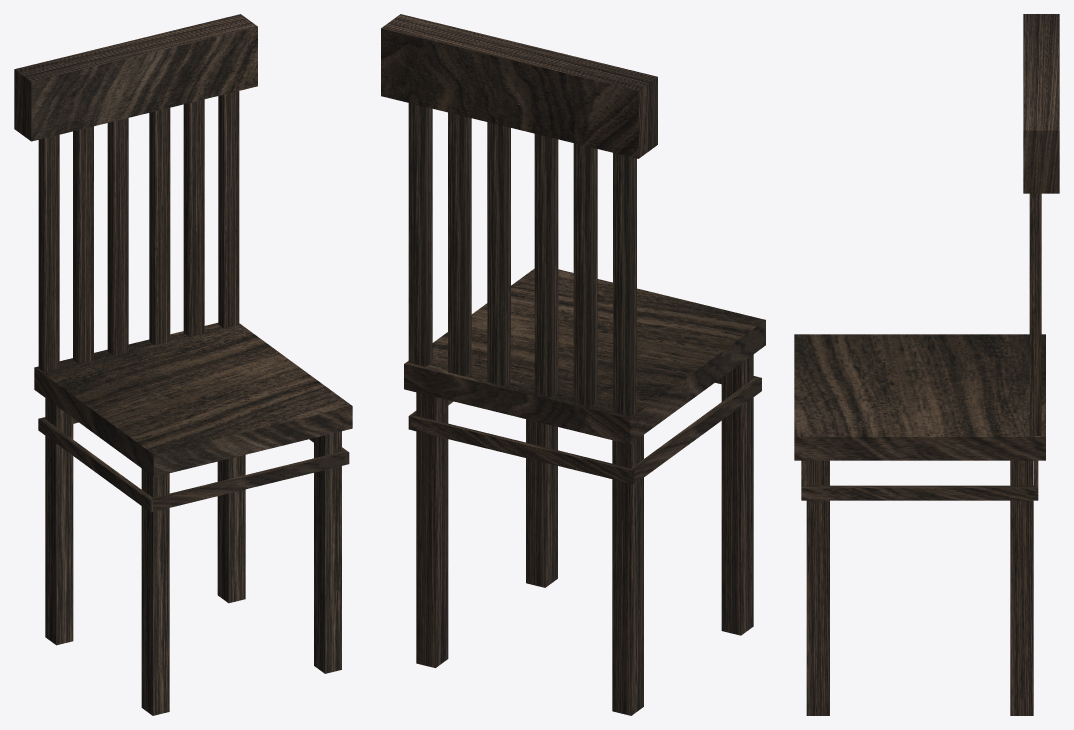
Rendered from chair.glb.
The picture shows the model from 3 angles, left to right: view 1: azimuth 30°, elevation 25°; view 2: azimuth 150°, elevation 25°; view 3: azimuth 270°, elevation 25°; orthographic projection. The views are drawn at different scales.
Visible parts, largest first — view 1: Cube, Cube.011, Cube.001, Cube.004, Cube.003, Cube.005, Cube.007, Cube.008, Cube.006, Cube.010, Cube.009, Cube.002 (+2 smaller); view 2: Cube, Cube.011, Cube.002, Cube.001, Cube.004, Cube.009, Cube.005, Cube.008, Cube.007, Cube.006, Cube.010, Cube.003 (+2 smaller); view 3: Cube, Cube.011, Cube.002, Cube.003, Cube.013, Cube.005.
Boxes of the visible parts, x1,y1,x2,y2 form: Cube: (34, 322, 352, 476); Cube.011: (14, 14, 257, 141); Cube.001: (141, 468, 169, 715); Cube.004: (45, 398, 73, 645); Cube.003: (314, 431, 341, 673); Cube.005: (218, 91, 239, 328); Cube.007: (149, 108, 170, 345); Cube.008: (107, 118, 128, 355); Cube.006: (183, 99, 204, 336); Cube.010: (38, 134, 59, 372); Cube.009: (73, 126, 93, 363); Cube.002: (217, 455, 245, 603); Cube: (404, 268, 765, 444); Cube.011: (381, 14, 657, 158); Cube.002: (416, 392, 448, 667); Cube.001: (721, 354, 753, 635); Cube.004: (612, 435, 643, 715); Cube.009: (573, 143, 597, 406); Cube.005: (408, 103, 432, 366); Cube.008: (534, 134, 558, 397); Cube.007: (487, 122, 510, 385); Cube.006: (448, 112, 471, 376); Cube.010: (613, 153, 636, 416); Cube.003: (526, 419, 557, 587); Cube: (794, 334, 1045, 460); Cube.011: (1023, 14, 1059, 193); Cube.002: (1010, 460, 1033, 715); Cube.003: (806, 460, 829, 715); Cube.013: (801, 485, 1038, 500); Cube.005: (1029, 193, 1041, 435).
Bounding box in the file's own units: 1.03 × 2.46 × 0.9946.
1 material, 1 textured.
